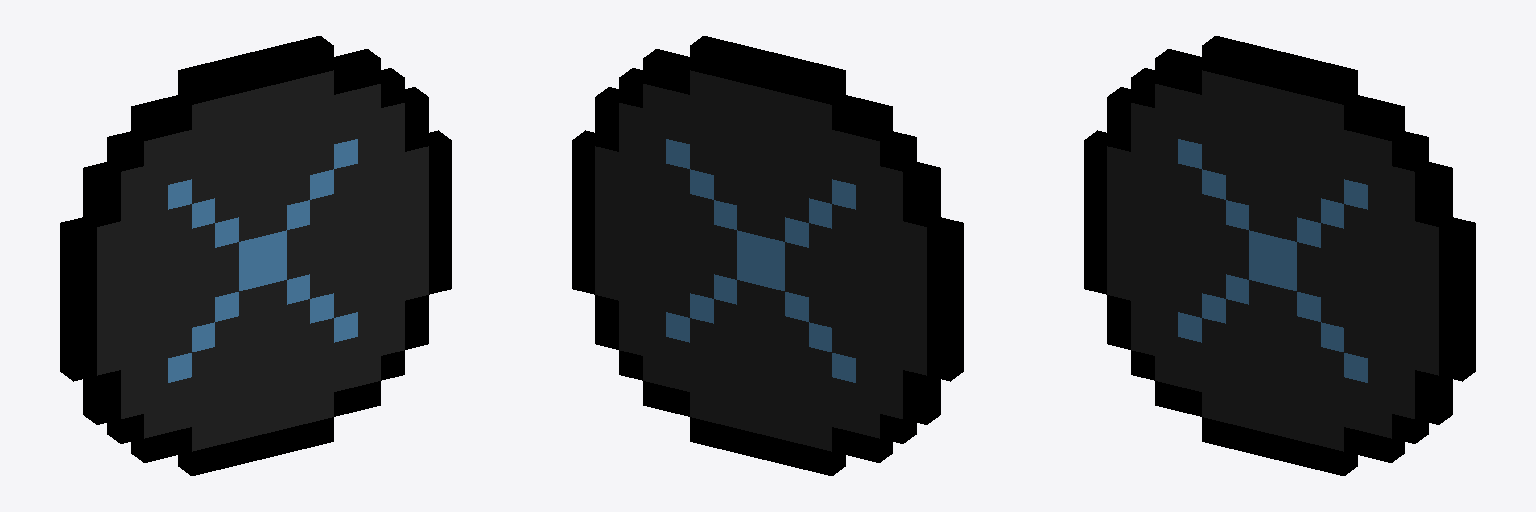
3 renders of one model, left to right at view 1: azimuth 30°, elevation 25°; view 2: azimuth 150°, elevation 25°; view 3: azimuth 330°, elevation 25°, orthographic.
Visible parts, largest first — view 1: object 1; view 2: object 1; view 3: object 1.
Boxes of the visible parts, box(x1,y1,x2,y2) form: object 1: box(60, 36, 451, 475); object 1: box(572, 36, 963, 475); object 1: box(1084, 36, 1475, 475).
Bounding box in the file's own units: 1.6 × 1.6 × 0.1.
1 materials, 1 textured.